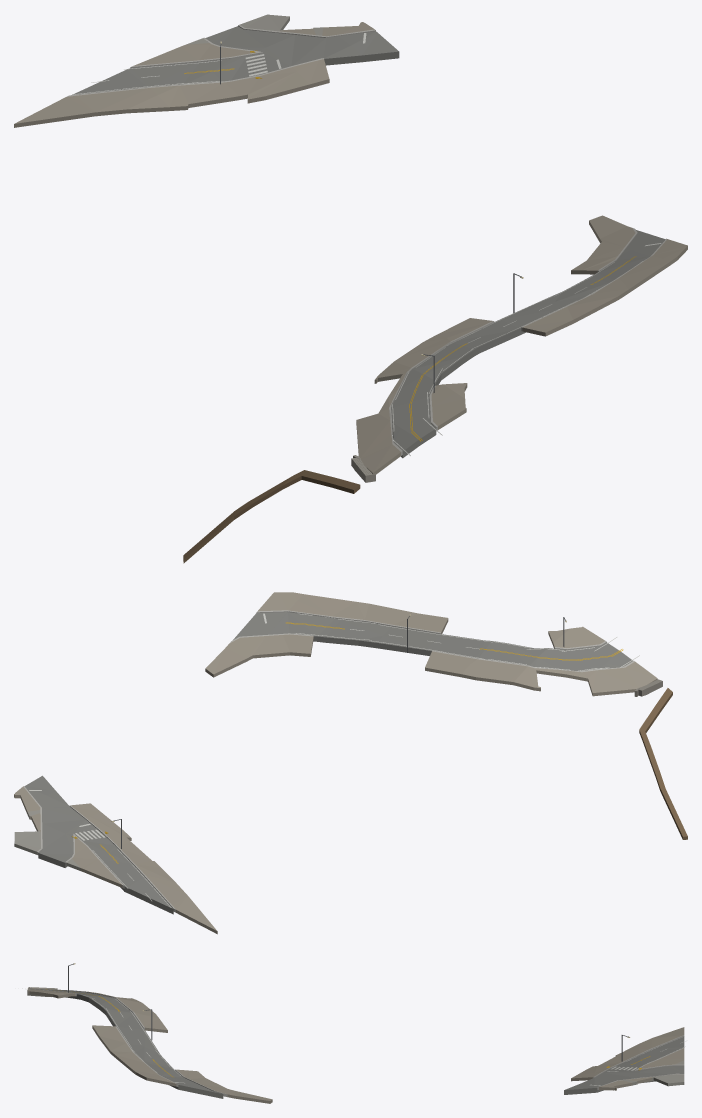
3 views of the same model, one above another, from view 1: azimuth 30°, elevation 25°; view 2: azimuth 150°, elevation 25°; view 3: azimuth 270°, elevation 25° (orthographic). The views are drawn at different scales.
Size of the model in its own units: 94.62 by 35.4 by 150.
